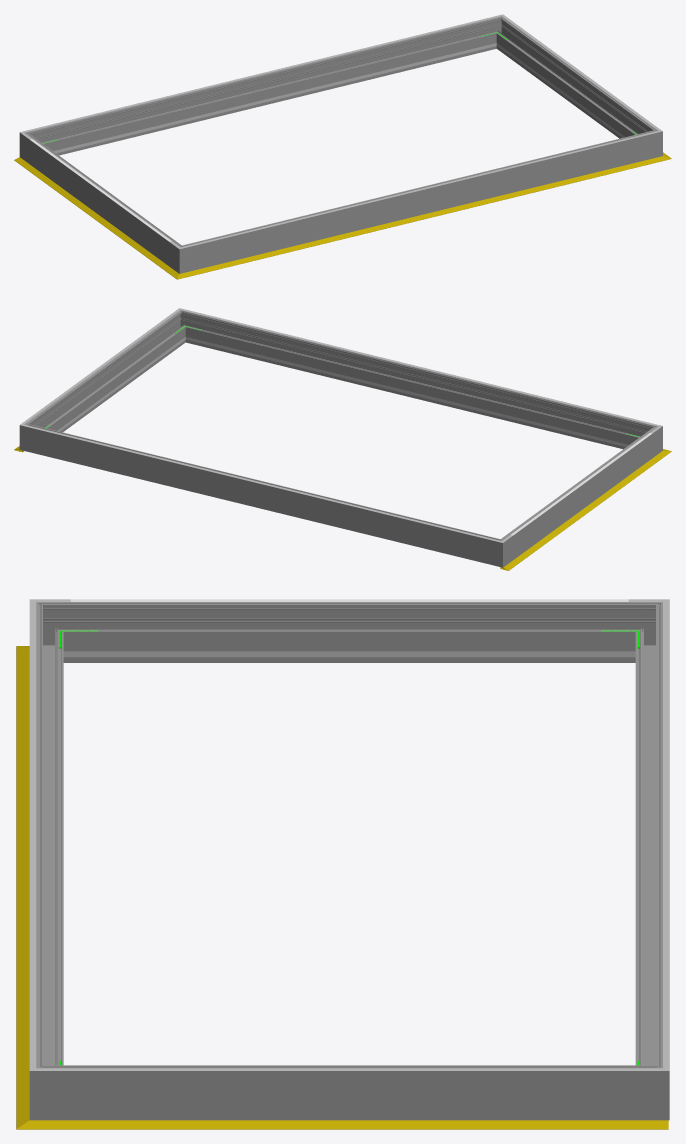
3 views of the same model, one above another, from view 1: azimuth 30°, elevation 25°; view 2: azimuth 150°, elevation 25°; view 3: azimuth 270°, elevation 25° (orthographic). The views are drawn at different scales.
Visible parts, largest first — view 1: 3DGeom-278, 3DGeom-300, 3DGeom-299, 3DGeom-270, 3DGeom-28, 3DGeom-246, 3DGeom-38, 3DGeom-306, 3DGeom-318, 3DGeom-272, 3DGeom-292, 3DGeom-305 (+4 smaller); view 2: 3DGeom-300, 3DGeom-278, 3DGeom-299, 3DGeom-270, 3DGeom-241, 3DGeom-38, 3DGeom-306, 3DGeom-318, 3DGeom-280, 3DGeom-286, 3DGeom-315, 3DGeom-305 (+3 smaller); view 3: 3DGeom-270, 3DGeom-299, 3DGeom-278, 3DGeom-300, 3DGeom-28, 3DGeom-30, 3DGeom-318, 3DGeom-234, 3DGeom-306, 3DGeom-286, 3DGeom-292, 3DGeom-305 (+3 smaller).
Part boxes in pixels (box(x1,y1,x2,y2)): 3DGeom-278: box(39, 20, 493, 155); 3DGeom-300: box(194, 133, 645, 269); 3DGeom-299: box(498, 22, 649, 138); 3DGeom-270: box(29, 138, 174, 265); 3DGeom-28: box(191, 159, 653, 275); 3DGeom-246: box(59, 47, 479, 152); 3DGeom-38: box(14, 157, 171, 271); 3DGeom-306: box(38, 18, 486, 128); 3DGeom-318: box(196, 134, 644, 244); 3DGeom-272: box(169, 240, 197, 273); 3DGeom-292: box(642, 124, 662, 160); 3DGeom-305: box(510, 22, 652, 124); 3DGeom-300: box(188, 313, 643, 449); 3DGeom-278: box(37, 427, 488, 563); 3DGeom-299: box(32, 316, 183, 432); 3DGeom-270: box(507, 432, 652, 559); 3DGeom-241: box(202, 341, 622, 446); 3DGeom-38: box(500, 456, 661, 570); 3DGeom-306: box(37, 428, 486, 538); 3DGeom-318: box(196, 312, 644, 422); 3DGeom-280: box(485, 534, 513, 567); 3DGeom-286: box(19, 418, 40, 453); 3DGeom-315: box(510, 433, 652, 535); 3DGeom-305: box(30, 315, 171, 418); 3DGeom-270: box(70, 602, 628, 662); 3DGeom-299: box(70, 1065, 628, 1120); 3DGeom-278: box(635, 616, 669, 1065); 3DGeom-300: box(36, 616, 63, 1065); 3DGeom-28: box(16, 660, 29, 1111); 3DGeom-30: box(57, 1120, 668, 1129); 3DGeom-318: box(29, 616, 36, 1053); 3DGeom-234: box(103, 651, 595, 657); 3DGeom-306: box(663, 616, 669, 1053); 3DGeom-286: box(628, 1054, 669, 1120); 3DGeom-292: box(29, 1054, 70, 1120); 3DGeom-305: box(70, 1068, 628, 1070).
Bounding box in the file's own units: 4.27 × 0.2195 × 2.44.
